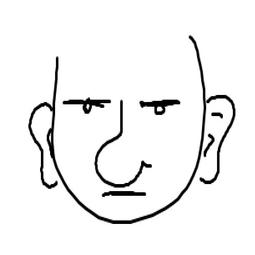large_ear: (197, 91, 239, 186), (27, 98, 58, 189)
large_nose: (92, 99, 154, 188)
line_unsmiling_mouth: (98, 188, 149, 200)
small_eye: (133, 97, 182, 118), (64, 98, 115, 115)
